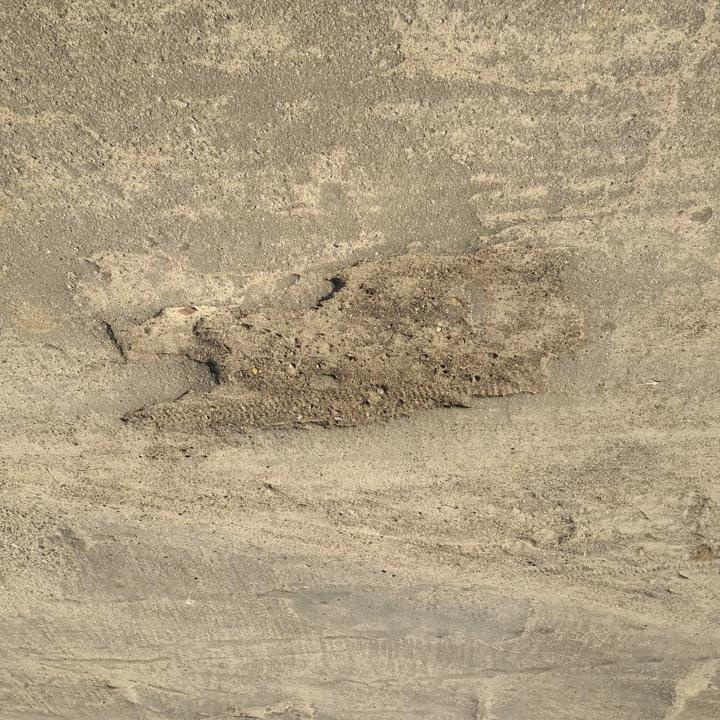pothole: (100, 239, 591, 446)
